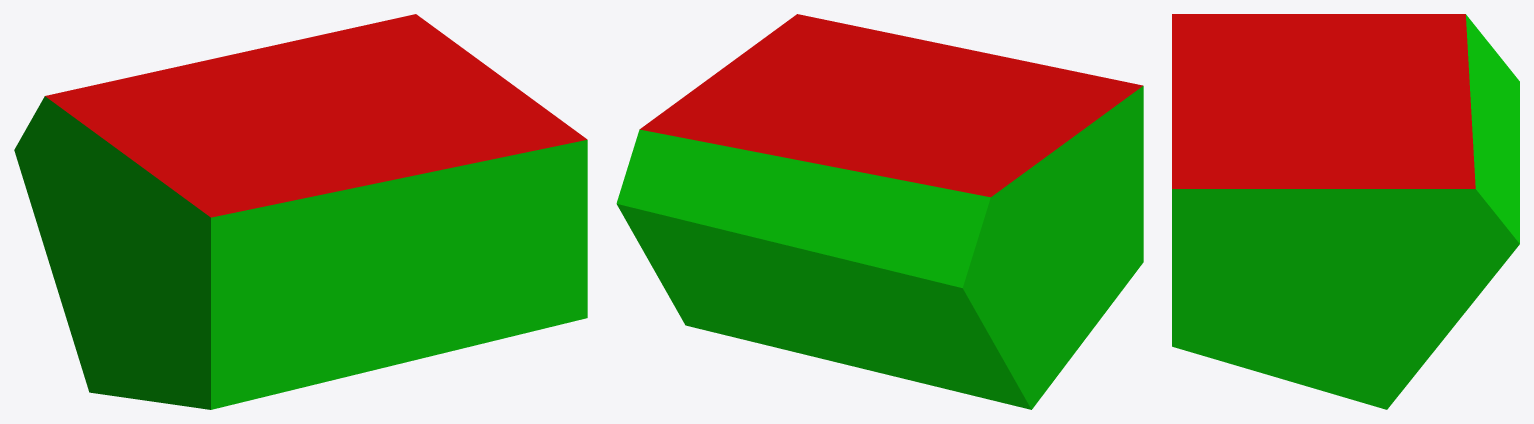
File: log.fbx
3 renders of one model, left to right at view 1: azimuth 30°, elevation 25°; view 2: azimuth 150°, elevation 25°; view 3: azimuth 270°, elevation 25°, orthographic. The views are drawn at different scales.
Parts seen in each view (by area): view 1: Log; view 2: Log; view 3: Log.
Boxes of the visible parts, <box> form: Log: <box>14,14,587,409</box>; Log: <box>616,14,1143,409</box>; Log: <box>1172,14,1519,409</box>.
Size of the model in its own units: 200 by 134 by 181.
